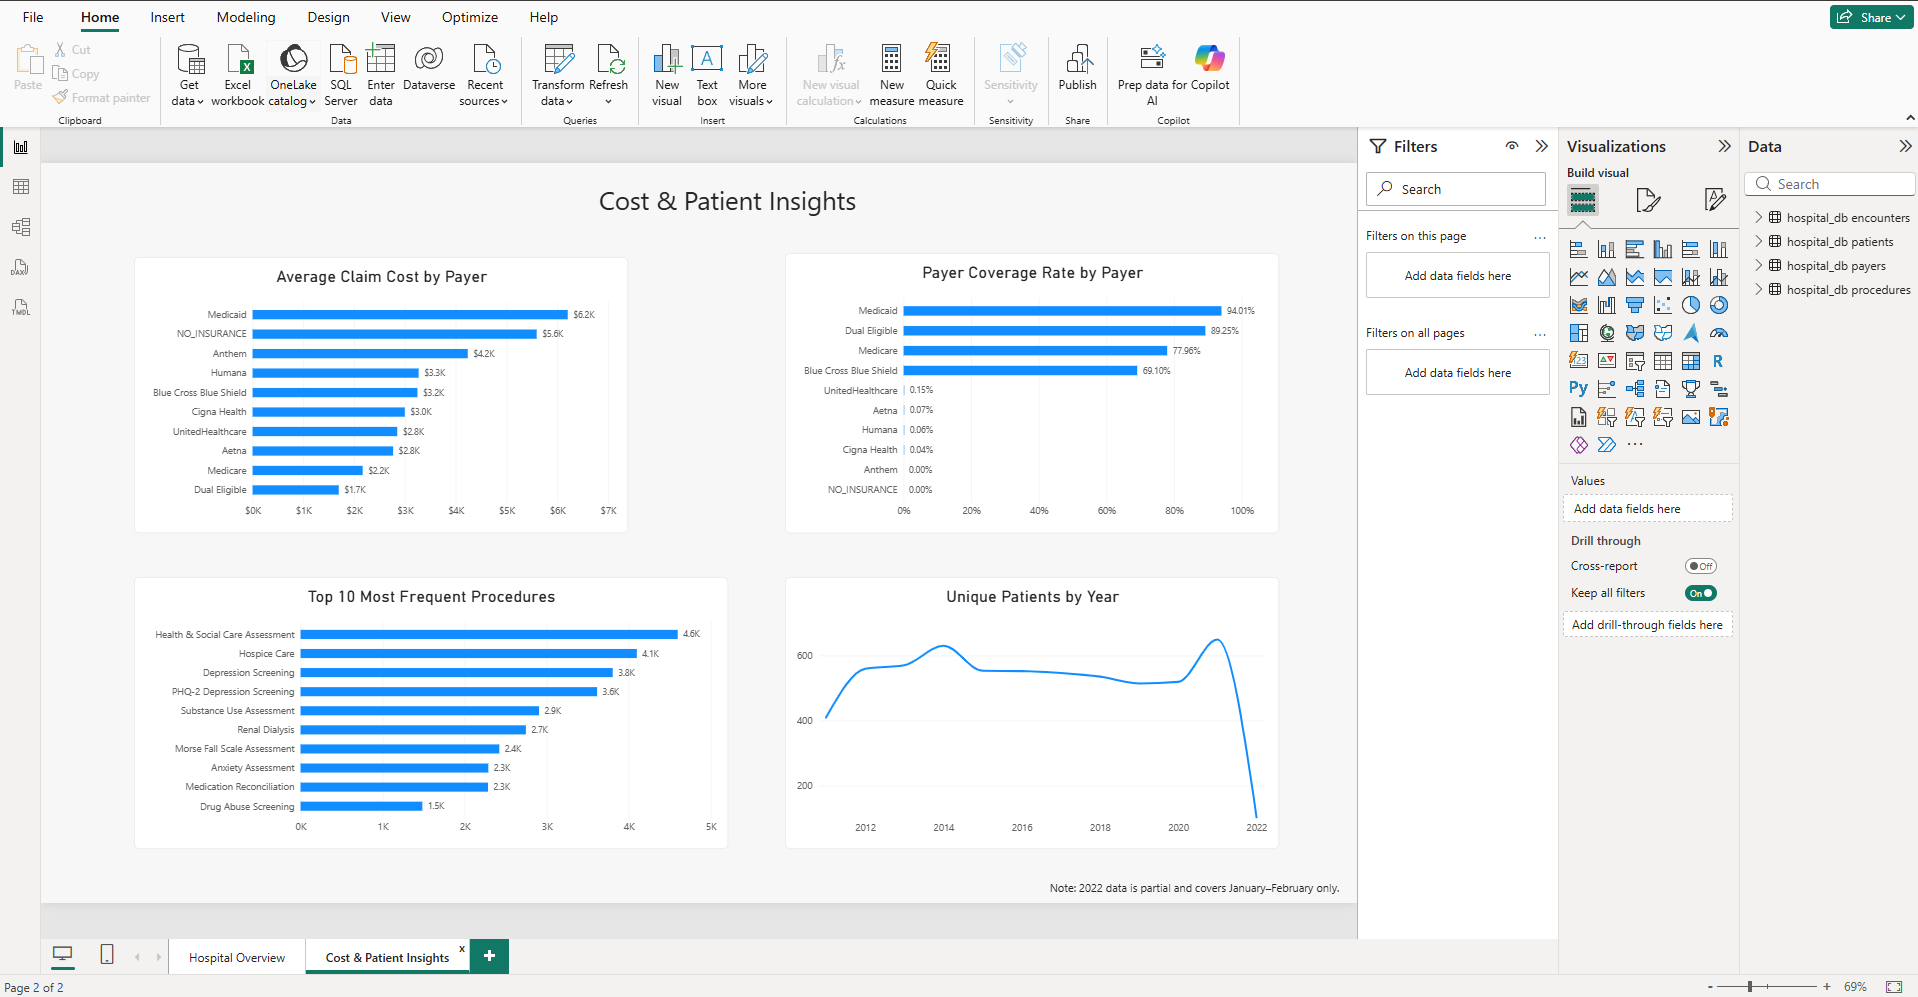

Layout of this report page (visuals, bound fields, positions):
{"tool":"powerbi","page":{"name":"Cost & Patient Insights","canvas":[1920,1080],"ordinal":1},"visuals":[{"type":"textbox","box":[637.6,29.2,728,52.5],"z":0},{"type":"clusteredBarChart","title":"Average Claim Cost by Payer","fields":{"Category":["hospital_db payers.NAME"],"Y":["hospital_db encounters.Average Claim Cost"]},"box":[135.7,137.1,720.7,402.7],"z":1},{"type":"clusteredBarChart","title":"Payer Coverage Rate by Payer","fields":{"Category":["hospital_db payers.NAME"],"Y":["hospital_db encounters.Payer Coverage Rate"]},"box":[1085.5,131.3,720.7,408.5],"z":2},{"type":"clusteredBarChart","title":"Top 10 Most Frequent Procedures","fields":{"Category":["hospital_db procedures.Procedure Short Name"],"Y":["hospital_db procedures.Total Procedures"]},"box":[135.7,604,866.6,396.8],"z":3},{"type":"lineChart","title":"Unique Patients by Year","fields":{"Category":["hospital_db encounters.START.Variation.Date Hierarchy.Year"],"Y":["hospital_db encounters.Unique Patients"]},"box":[1085,604,721,397],"z":4},{"type":"textbox","box":[1445.8,1046.1,474.2,33.6],"z":5}]}

Visuals, with their boxes on the page's 1920x1080 design canvas (x1, y1, x2, y2). These are canvas units, not pixel positions in the 1918x997 screenshot, which may show the page scaled, cropped or inside an application window:
textbox: <bbox>638, 29, 1366, 82</bbox>
"Average Claim Cost by Payer" clusteredBarChart: <bbox>136, 137, 856, 540</bbox>
"Payer Coverage Rate by Payer" clusteredBarChart: <bbox>1086, 131, 1806, 540</bbox>
"Top 10 Most Frequent Procedures" clusteredBarChart: <bbox>136, 604, 1002, 1001</bbox>
"Unique Patients by Year" lineChart: <bbox>1085, 604, 1806, 1001</bbox>
textbox: <bbox>1446, 1046, 1920, 1080</bbox>
